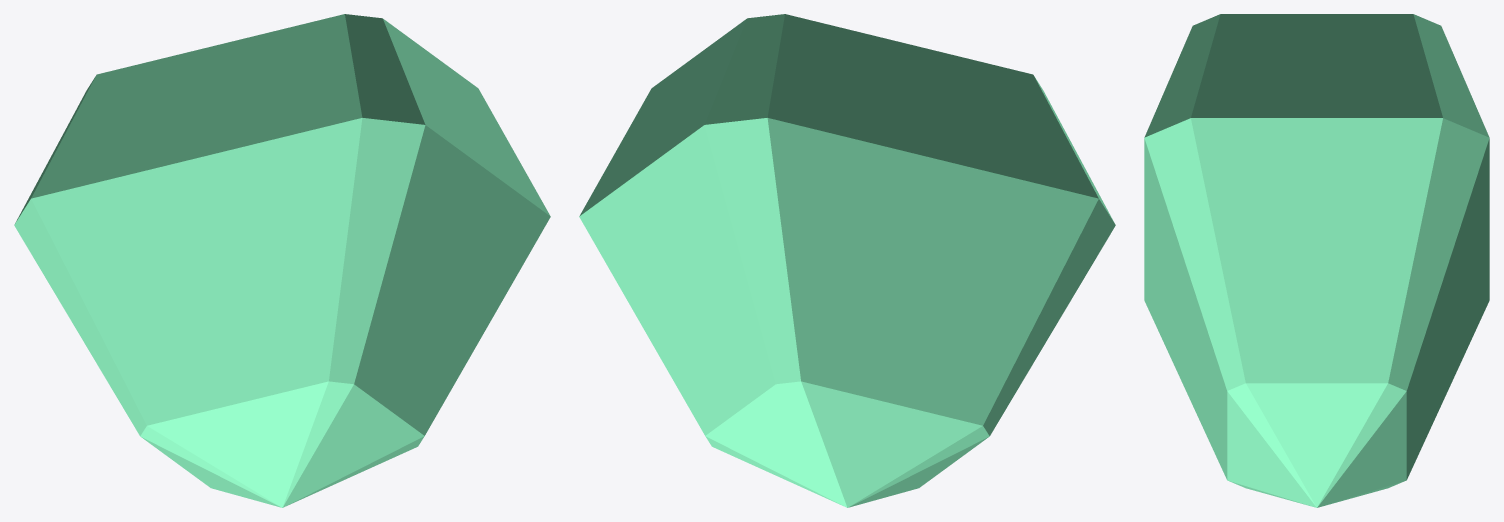
File: emerald.glb
3 renders of one model, left to right at view 1: azimuth 30°, elevation 25°; view 2: azimuth 150°, elevation 25°; view 3: azimuth 270°, elevation 25°, orthographic.
Bounding box in the file's own units: 0.25 × 0.2431 × 0.1806.
